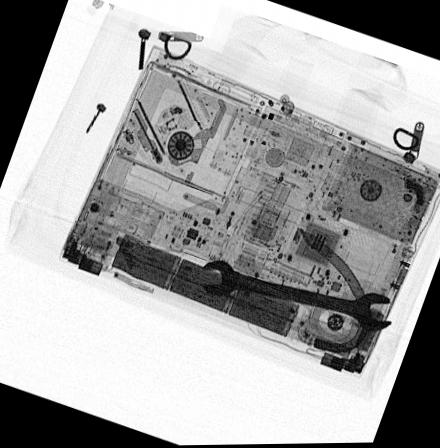Wrench: (201, 260, 392, 332)
